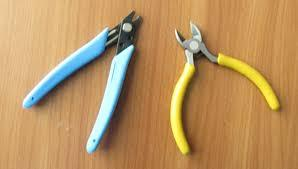pliers: (21, 6, 143, 153), (169, 20, 280, 155)
